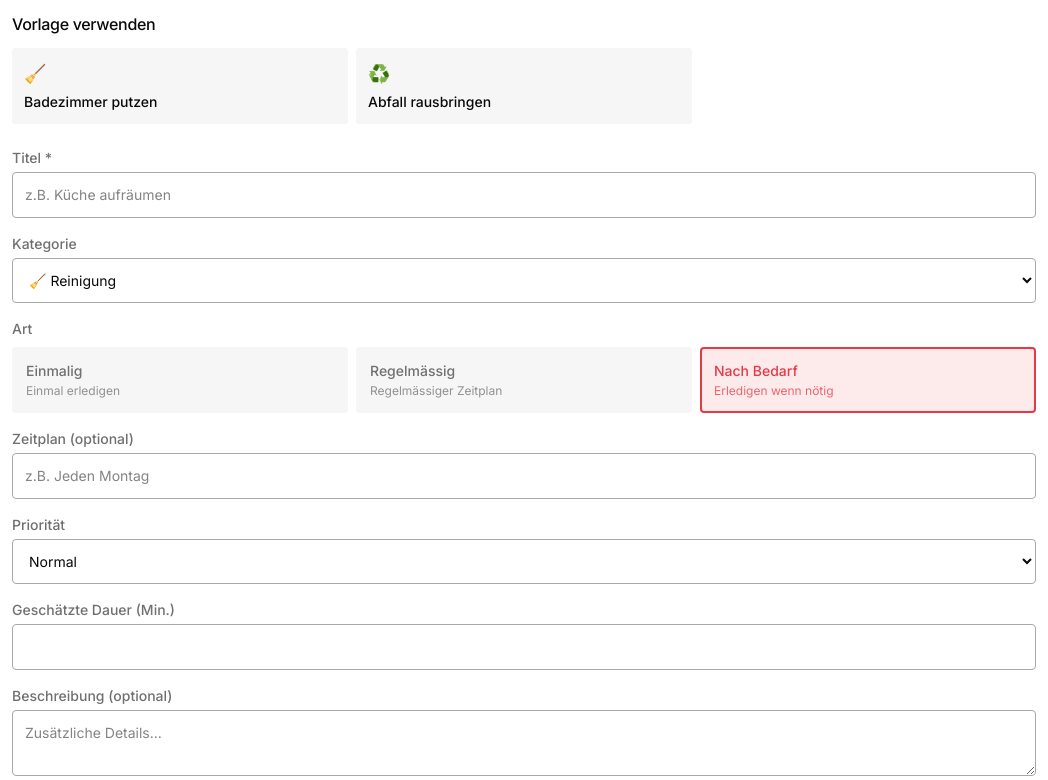
it: CreateChoreForm › can switch between templates
This screenshot has width=1048, height=780.
What coordinates should you click on to do the following:
click the button "🧹 Badezimmer putzen"
I would click on:
 (91, 102)
Its box is [12,48,348,124].
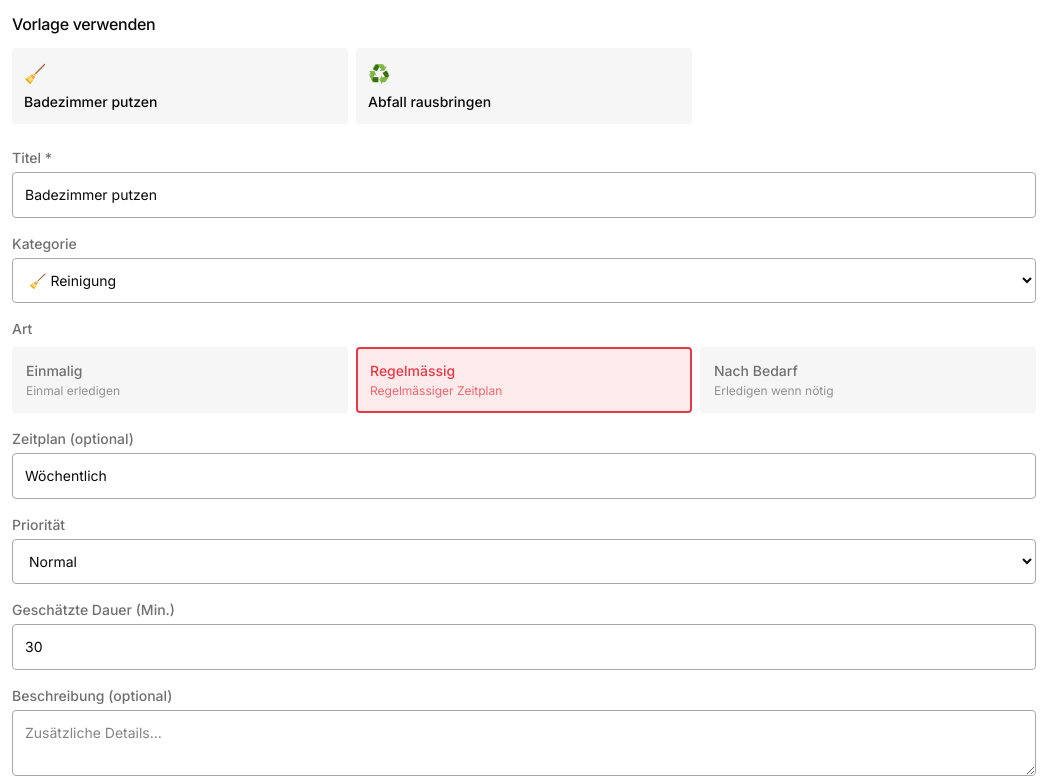
Check: the field labelled "Titel *" holds "Badezimmer putzen", box [12,172,1036,218]
What coordinates should you click on to do the following:
click the button "♻️ Abfall rausbringen"
I would click on:
 (430, 102)
Its box is [356,48,692,124].
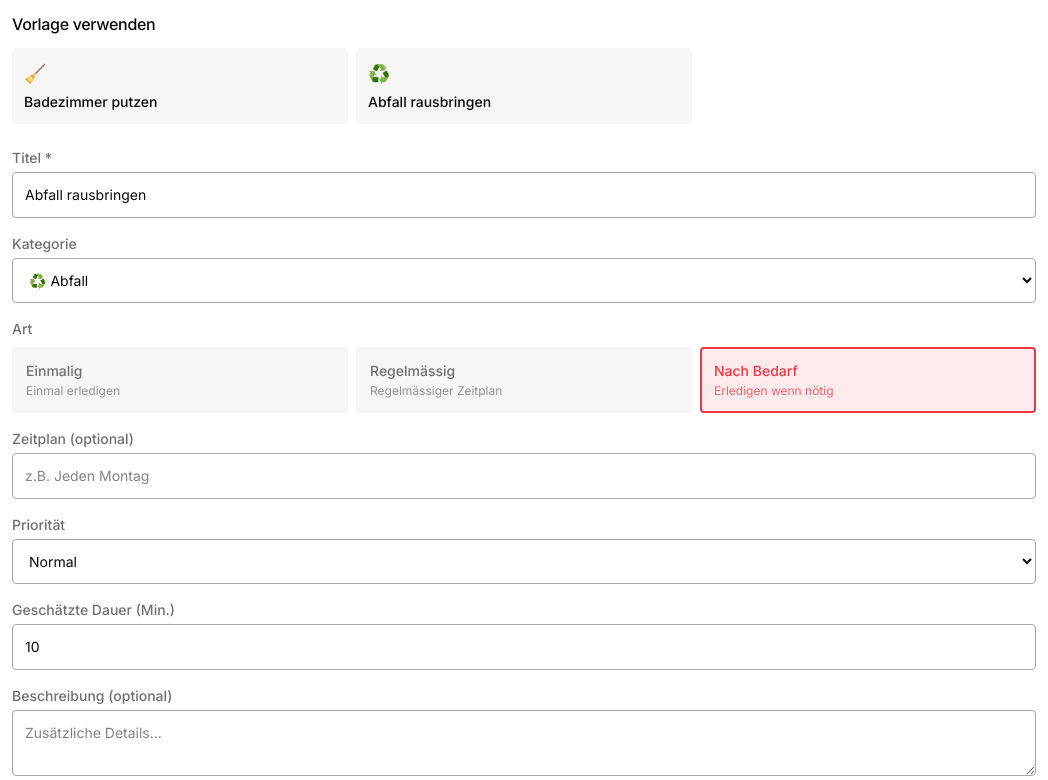
Check: the field labelled "Titel *" holds "Abfall rausbringen", box [12,172,1036,218]
